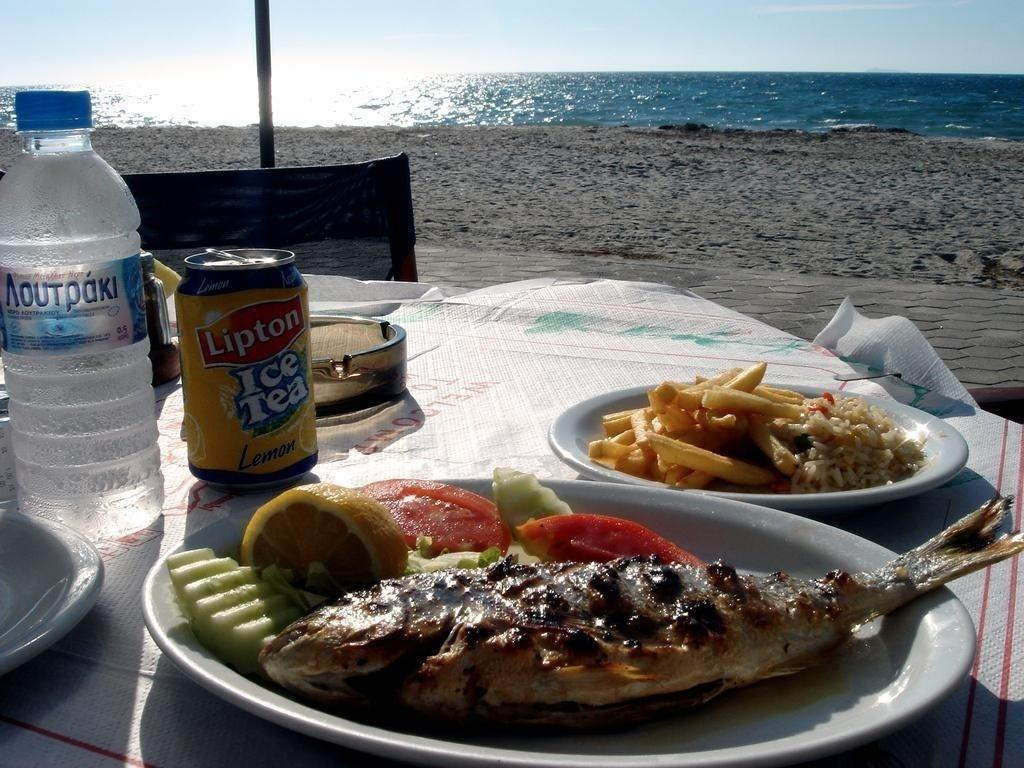bottle-plastic: (1, 88, 168, 540)
tin can: (174, 244, 323, 493)
